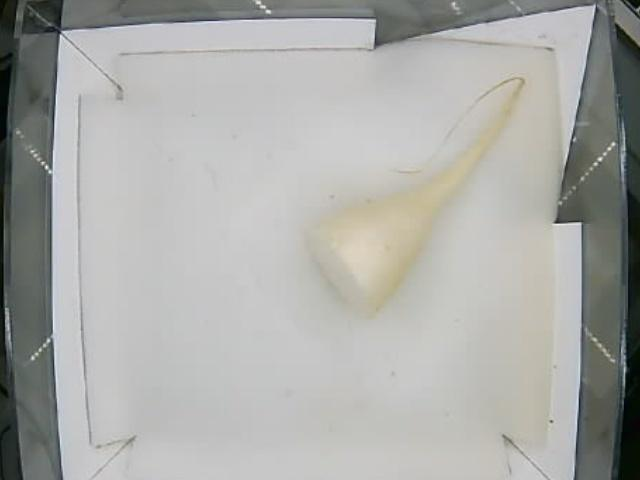Mooli: (302, 182, 442, 329)
